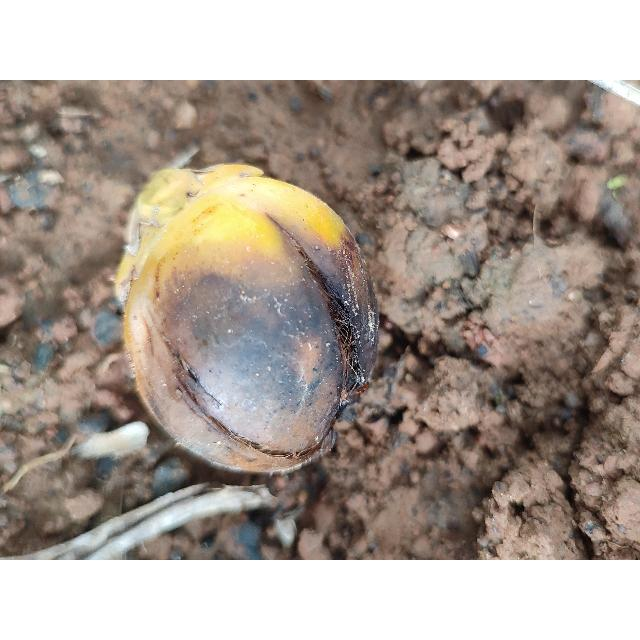damaged: (116, 164, 378, 474)
